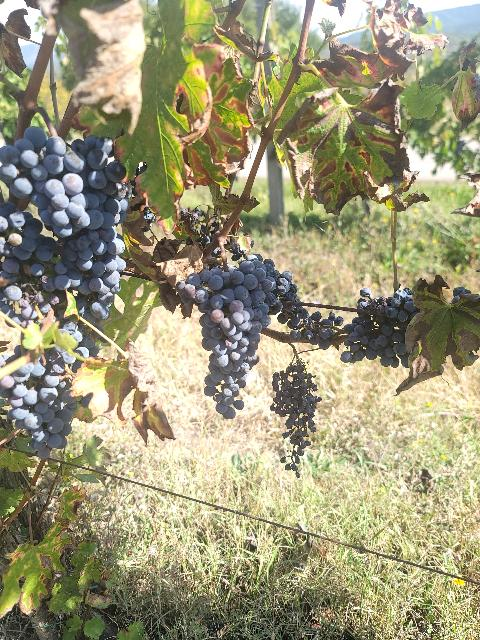grapes: (0, 126, 131, 320), (175, 255, 278, 419), (0, 352, 78, 459), (340, 288, 419, 368), (270, 355, 321, 478), (0, 201, 56, 311)
